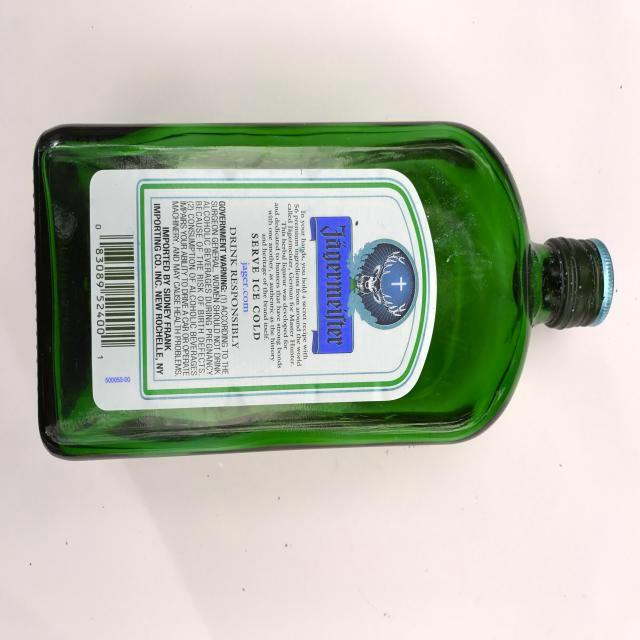glass: (20, 102, 620, 470)
